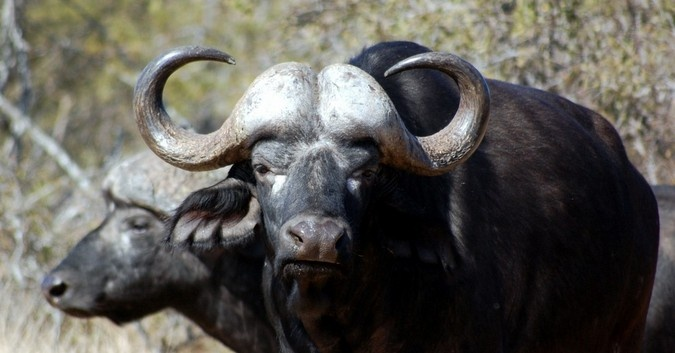buffalo: (137, 41, 659, 351)
